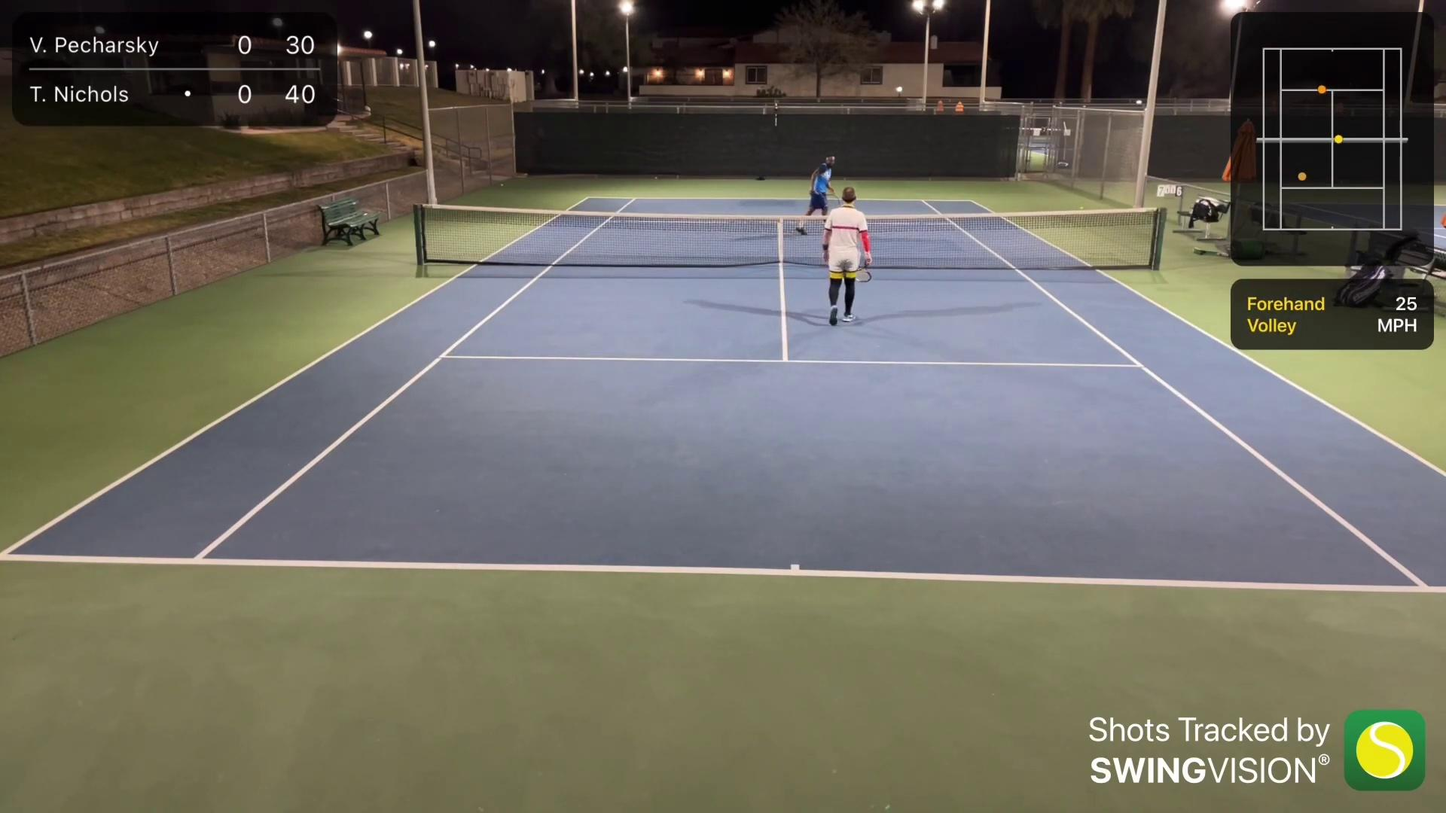ball: (651, 175, 662, 181), (499, 181, 504, 188)
